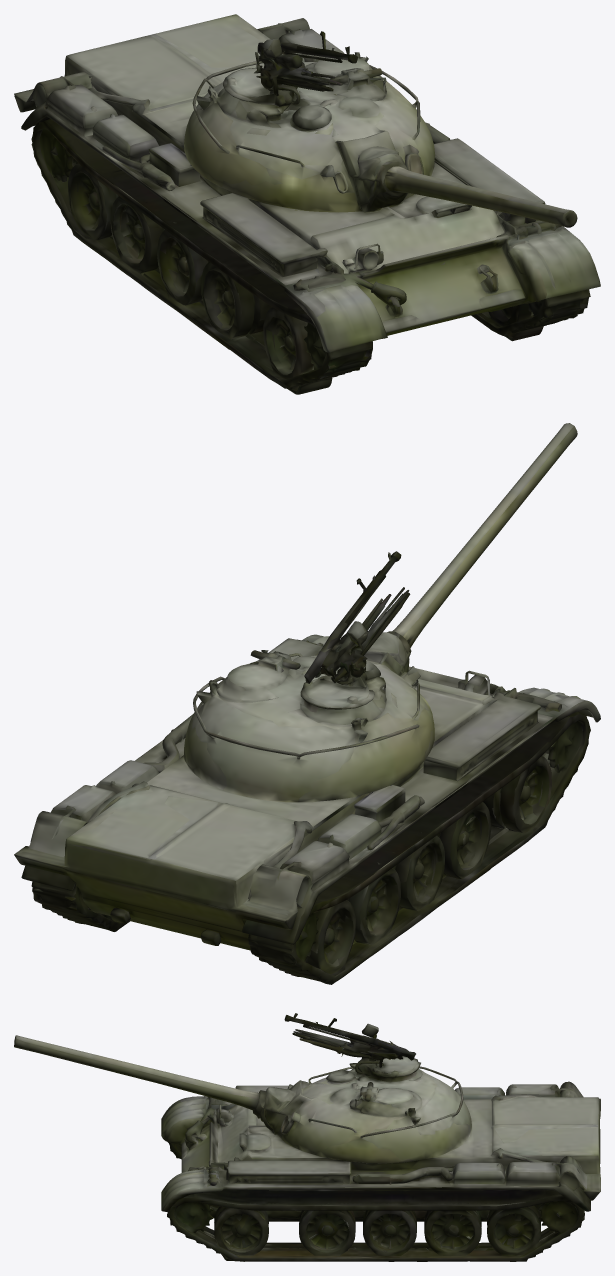
Rendered from t54_opt.glb.
The picture shows the model from 3 angles, top to bottom: view 1: azimuth 30°, elevation 25°; view 2: azimuth 150°, elevation 25°; view 3: azimuth 270°, elevation 25°; orthographic projection. The views are drawn at different scales.
Parts seen in each view (by area): view 1: node_0; view 2: node_0; view 3: node_0.
Part boxes in pixels (box(x1,y1,x2,y2)): node_0: box(14, 14, 600, 394); node_0: box(14, 423, 600, 984); node_0: box(14, 1013, 600, 1261).
Size of the model in its own units: 0.4204 by 0.4215 by 1.12.
Materials: 1 (1 with a texture image).
